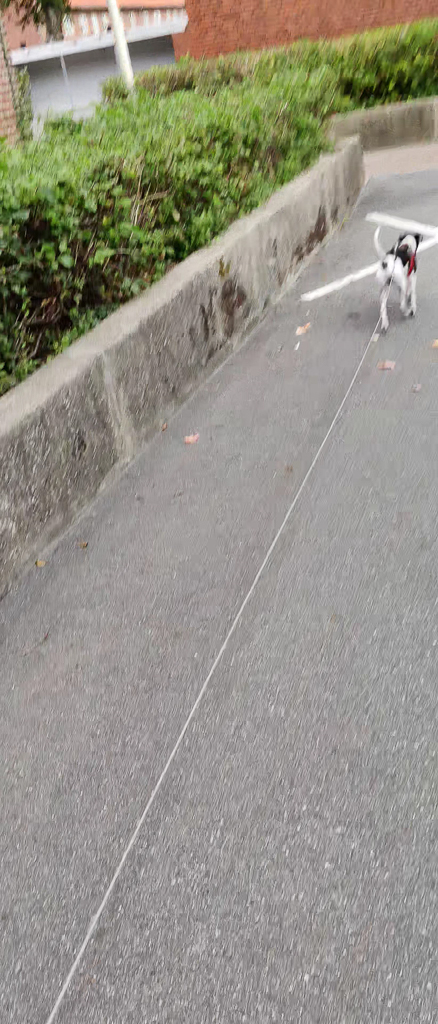Dog: (371, 219, 431, 334)
